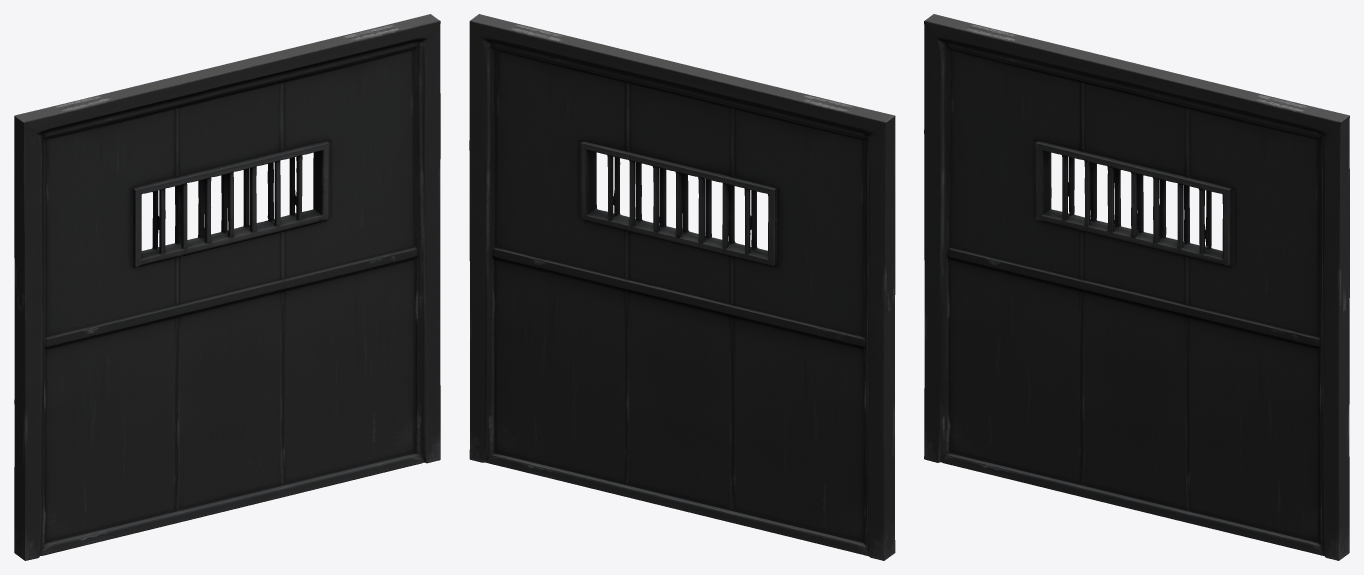
The model's file is door.glb.
3 renders of one model, left to right at view 1: azimuth 30°, elevation 25°; view 2: azimuth 150°, elevation 25°; view 3: azimuth 330°, elevation 25°, orthographic.
Parts seen in each view (by area): view 1: world; view 2: world; view 3: world.
Boxes of the visible parts, x1=… form: world: x1=14, y1=14, x2=440, y2=560; world: x1=469, y1=14, x2=895, y2=560; world: x1=924, y1=14, x2=1349, y2=560.
Size of the model in its own units: 0.9951 by 1 by 0.0474.
Materials: 1 (1 with a texture image).
